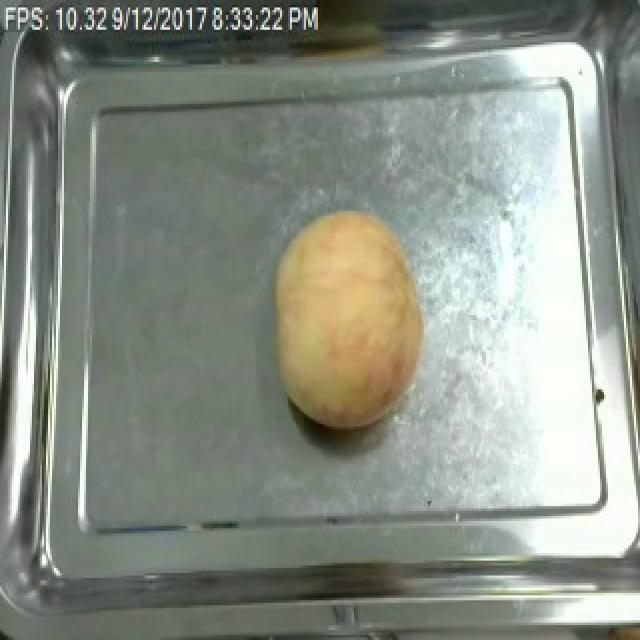Fruit: (262, 204, 438, 436)
